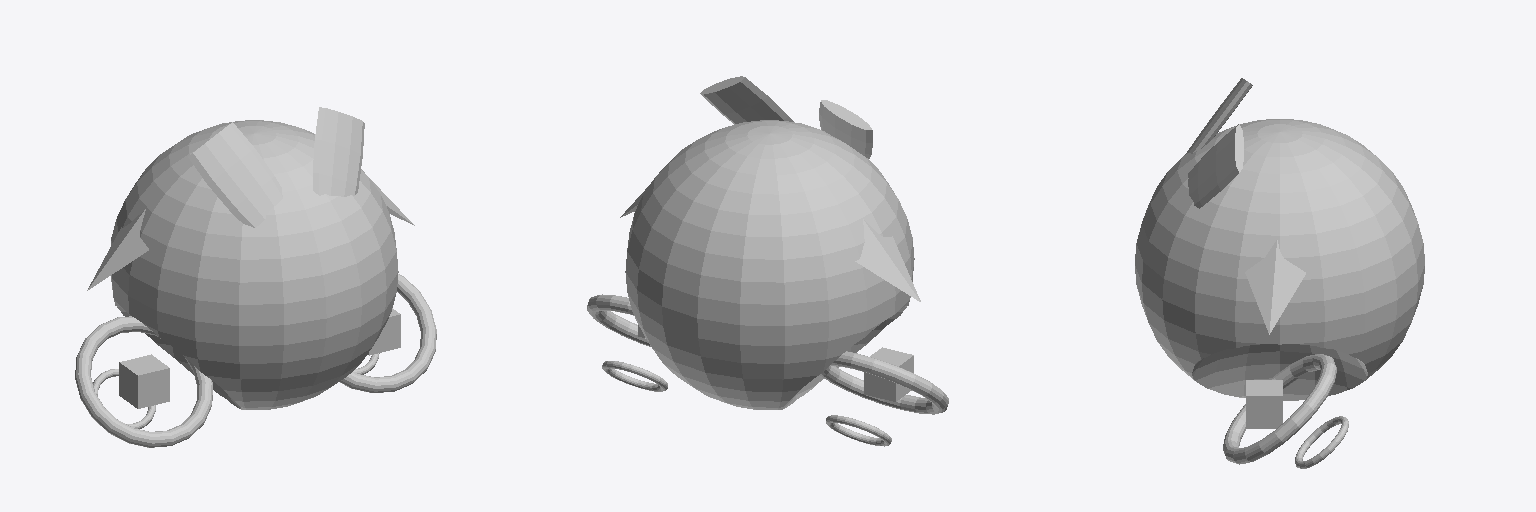
The model's file is chon.obj.
3 views of the same model, side by side, from view 1: azimuth 30°, elevation 25°; view 2: azimuth 150°, elevation 25°; view 3: azimuth 270°, elevation 25° (orthographic).
Visible parts, largest first — view 1: pSphere5, pSphere7, pTorus3, pSphere6, pTorus2, Chon_pCube25, pPyramid2, Chon_pCube24; view 2: pSphere5, pTorus3, pSphere6, pPyramid2, pSphere7, pTorus2, Chon_pCube25, pTorus4, pTorus5; view 3: pSphere5, pTorus2, pPyramid1, pSphere6, Chon_pCube24, pSphere7, pTorus4.
Part boxes in pixels (left/top/right/bottom): pSphere5: left=111, top=120, right=398, bottom=409; pSphere7: left=188, top=122, right=282, bottom=227; pTorus3: left=75, top=316, right=212, bottom=447; pSphere6: left=313, top=107, right=364, bottom=196; pTorus2: left=340, top=274, right=436, bottom=392; Chon_pCube25: left=119, top=354, right=169, bottom=408; pPyramid2: left=87, top=209, right=148, bottom=290; Chon_pCube24: left=367, top=308, right=400, bottom=355; pSphere5: left=625, top=120, right=914, bottom=409; pTorus3: left=820, top=351, right=948, bottom=414; pSphere6: left=700, top=76, right=793, bottom=124; pPyramid2: left=855, top=219, right=920, bottom=301; pSphere7: left=819, top=100, right=872, bottom=158; pTorus2: left=587, top=294, right=650, bottom=346; Chon_pCube25: left=864, top=347, right=913, bottom=401; pTorus4: left=602, top=361, right=667, bottom=391; pTorus5: left=826, top=415, right=891, bottom=446; pSphere5: left=1135, top=119, right=1424, bottom=400; pTorus2: left=1223, top=354, right=1336, bottom=464; pPyramid1: left=1245, top=240, right=1305, bottom=334; pSphere6: left=1188, top=124, right=1243, bottom=208; Chon_pCube24: left=1246, top=380, right=1282, bottom=428; pSphere7: left=1185, top=78, right=1252, bottom=154; pTorus4: left=1295, top=416, right=1348, bottom=468.
Bounding box in the file's own units: 3.49 × 2.93 × 2.51.